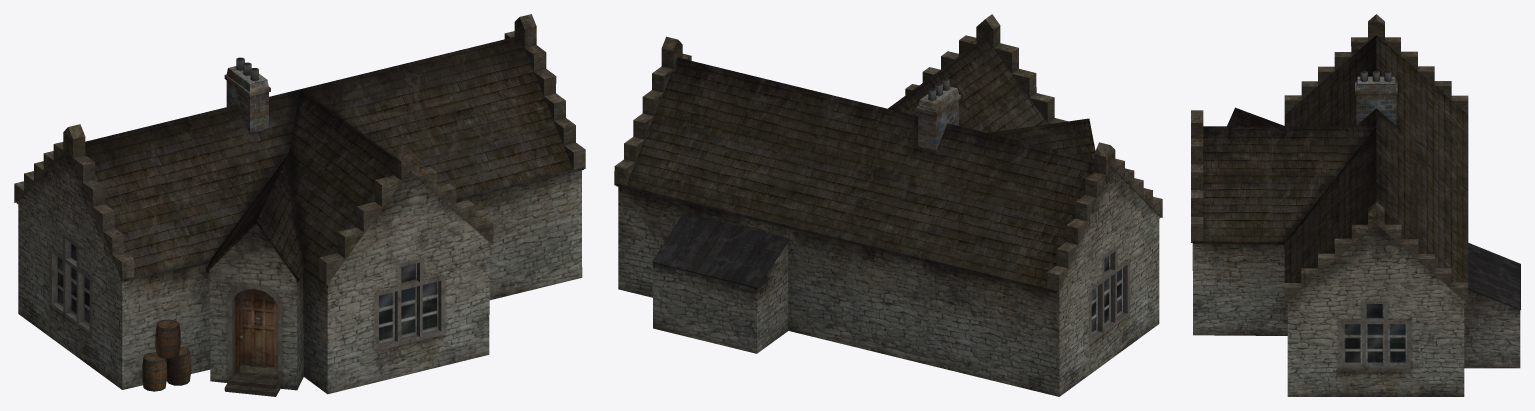
The model's file is House 4.fbx.
3 views of the same model, side by side, from view 1: azimuth 30°, elevation 25°; view 2: azimuth 150°, elevation 25°; view 3: azimuth 270°, elevation 25° (orthographic). The views are drawn at different scales.
Parts seen in each view (by area): view 1: house_obj; view 2: house_obj; view 3: house_obj.
Boxes of the visible parts, <box> form: house_obj: <box>14,14,585,396</box>; house_obj: <box>614,14,1162,396</box>; house_obj: <box>1191,14,1520,396</box>.
Bounding box in the file's own units: 4298 × 2165 × 3117.
